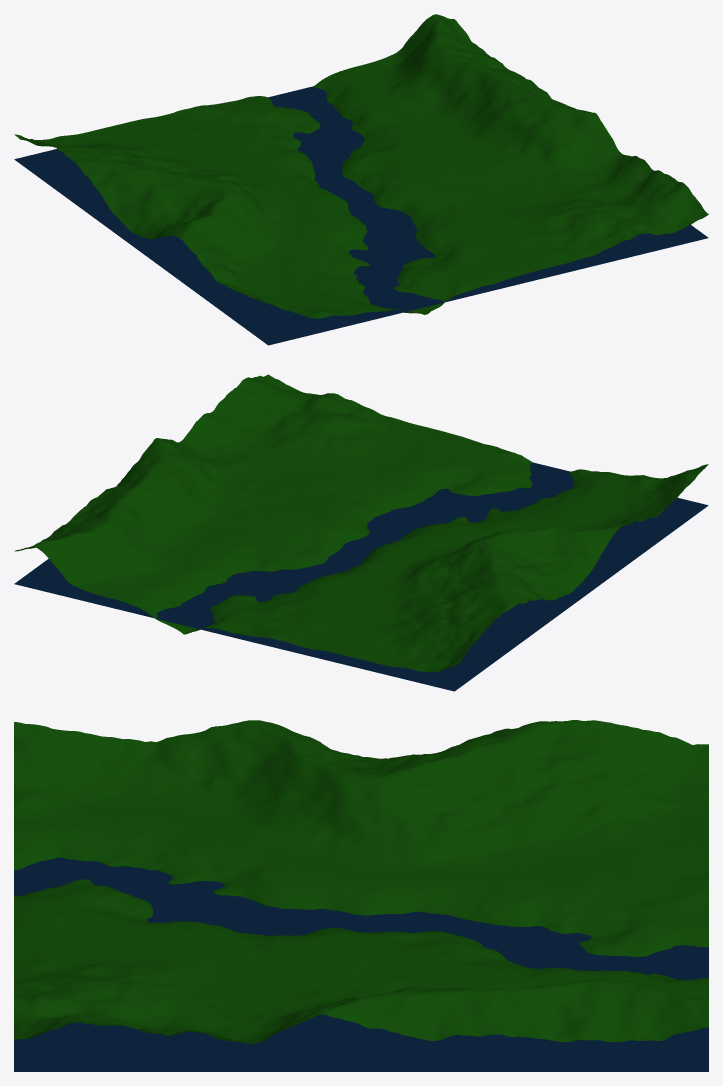
Rendered from world.dae.
The picture shows the model from 3 angles, top to bottom: view 1: azimuth 30°, elevation 25°; view 2: azimuth 150°, elevation 25°; view 3: azimuth 270°, elevation 25°; orthographic projection. The views are drawn at different scales.
Visible parts, largest first — view 1: Landscape.002, Landscape_plane; view 2: Landscape.002, Landscape_plane; view 3: Landscape.002, Landscape_plane.
Boxes of the visible parts, <box> form: Landscape.002: <box>14,14,708,318</box>; Landscape_plane: <box>14,86,708,345</box>; Landscape.002: <box>14,374,708,672</box>; Landscape_plane: <box>14,462,708,691</box>; Landscape.002: <box>14,720,708,1043</box>; Landscape_plane: <box>14,857,708,1071</box>.
Bounding box in the file's own units: 2 × 2 × 0.2251.
